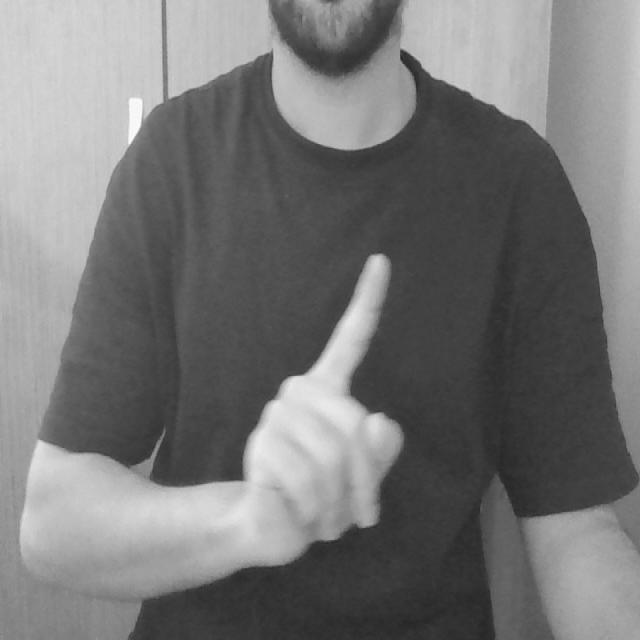Hayir: (246, 185, 402, 588)
